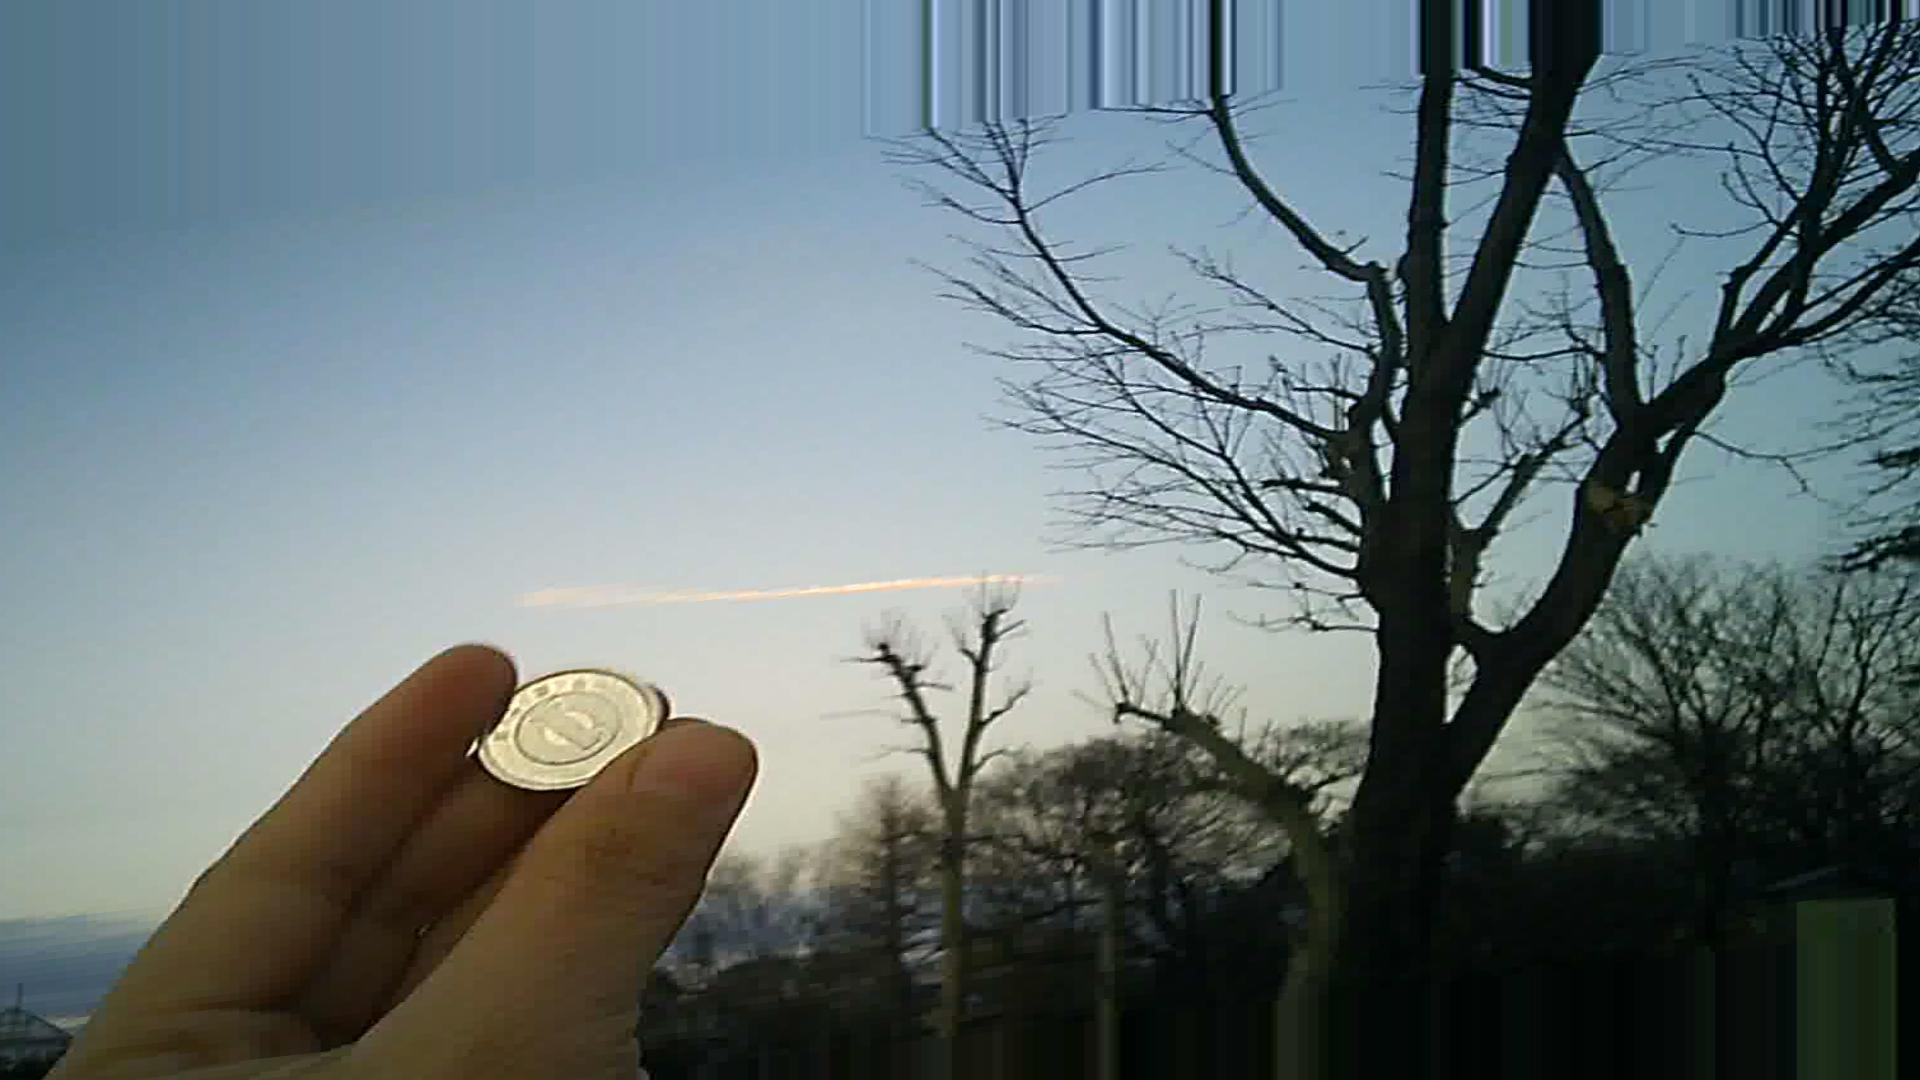1 Yen: (448, 663, 663, 798)
